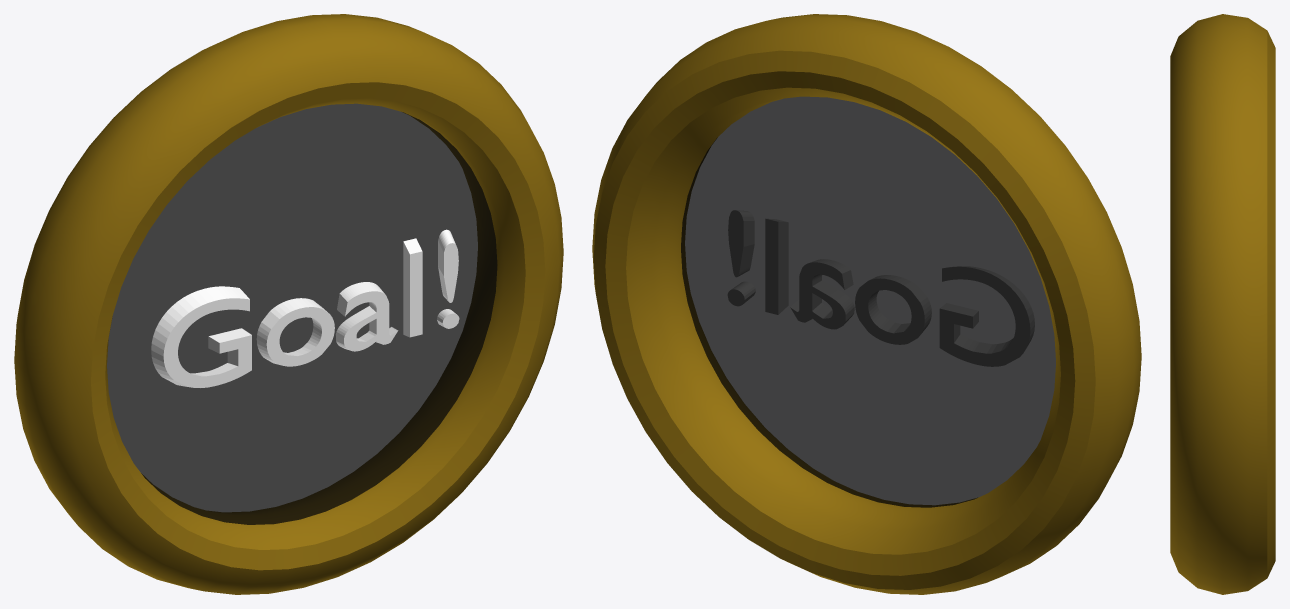
The model's file is GoalRing.obj.
The picture shows the model from 3 angles, left to right: view 1: azimuth 30°, elevation 25°; view 2: azimuth 150°, elevation 25°; view 3: azimuth 270°, elevation 25°; orthographic projection. The views are drawn at different scales.
Parts seen in each view (by area): view 1: Torus, Circle, Text; view 2: Torus, Circle, Text; view 3: Torus.
Boxes of the visible parts, x1=… form: Torus: x1=14, y1=14, x2=563, y2=594; Circle: x1=107, y1=103, x2=497, y2=524; Text: x1=151, y1=229, x2=459, y2=387; Torus: x1=592, y1=14, x2=1141, y2=594; Circle: x1=681, y1=96, x2=1055, y2=507; Text: x1=728, y1=210, x2=1034, y2=366; Torus: x1=1170, y1=14, x2=1275, y2=594.
Bounding box in the file's own units: 14.81 × 14.81 × 2.69.
